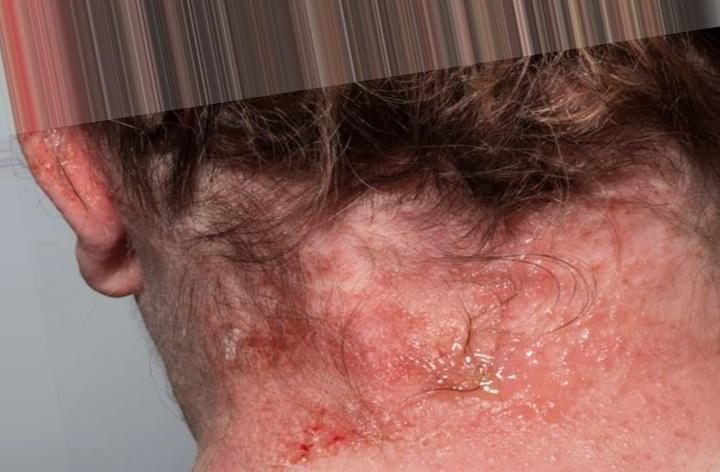Contact Dermatitis: (159, 151, 613, 448)
